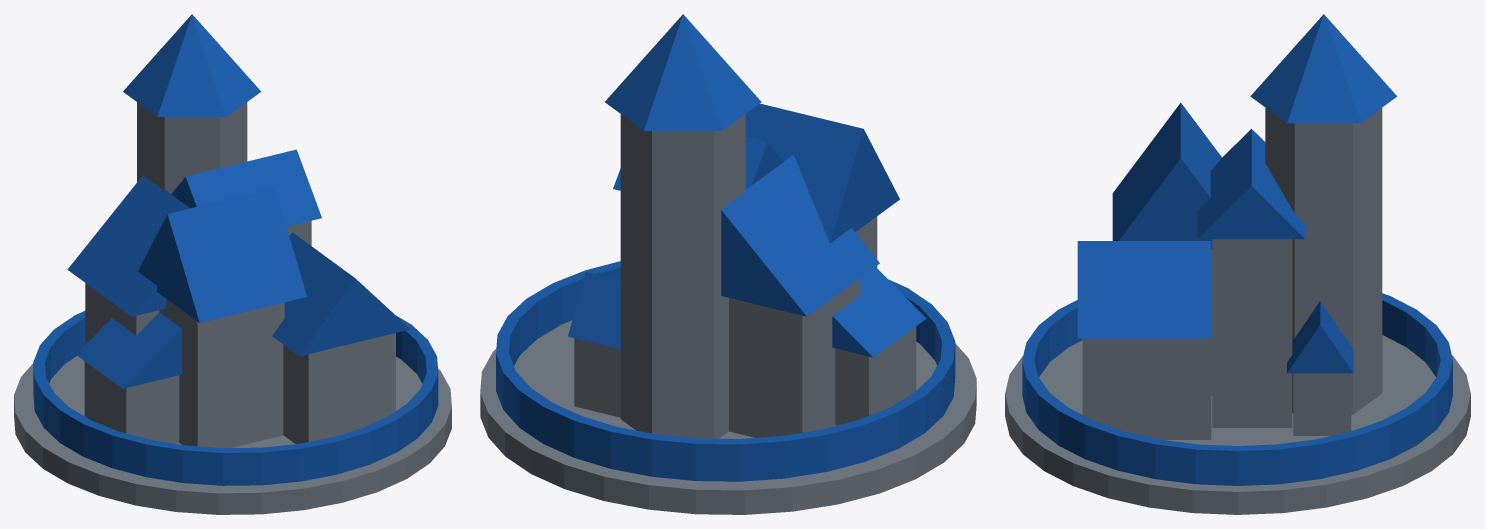
Rendered from blueCity.fbx.
The picture shows the model from 3 angles, left to right: view 1: azimuth 30°, elevation 25°; view 2: azimuth 150°, elevation 25°; view 3: azimuth 270°, elevation 25°; orthographic projection. The views are drawn at different scales.
Parts seen in each view (by area): view 1: Cylinder.063; view 2: Cylinder.063; view 3: Cylinder.063.
Part boxes in pixels (x1=…): Cylinder.063: x1=14, y1=14, x2=451, y2=514; Cylinder.063: x1=480, y1=14, x2=976, y2=514; Cylinder.063: x1=1005, y1=14, x2=1470, y2=514.
Bounding box in the file's own units: 45.34 × 43.2 × 45.34.
